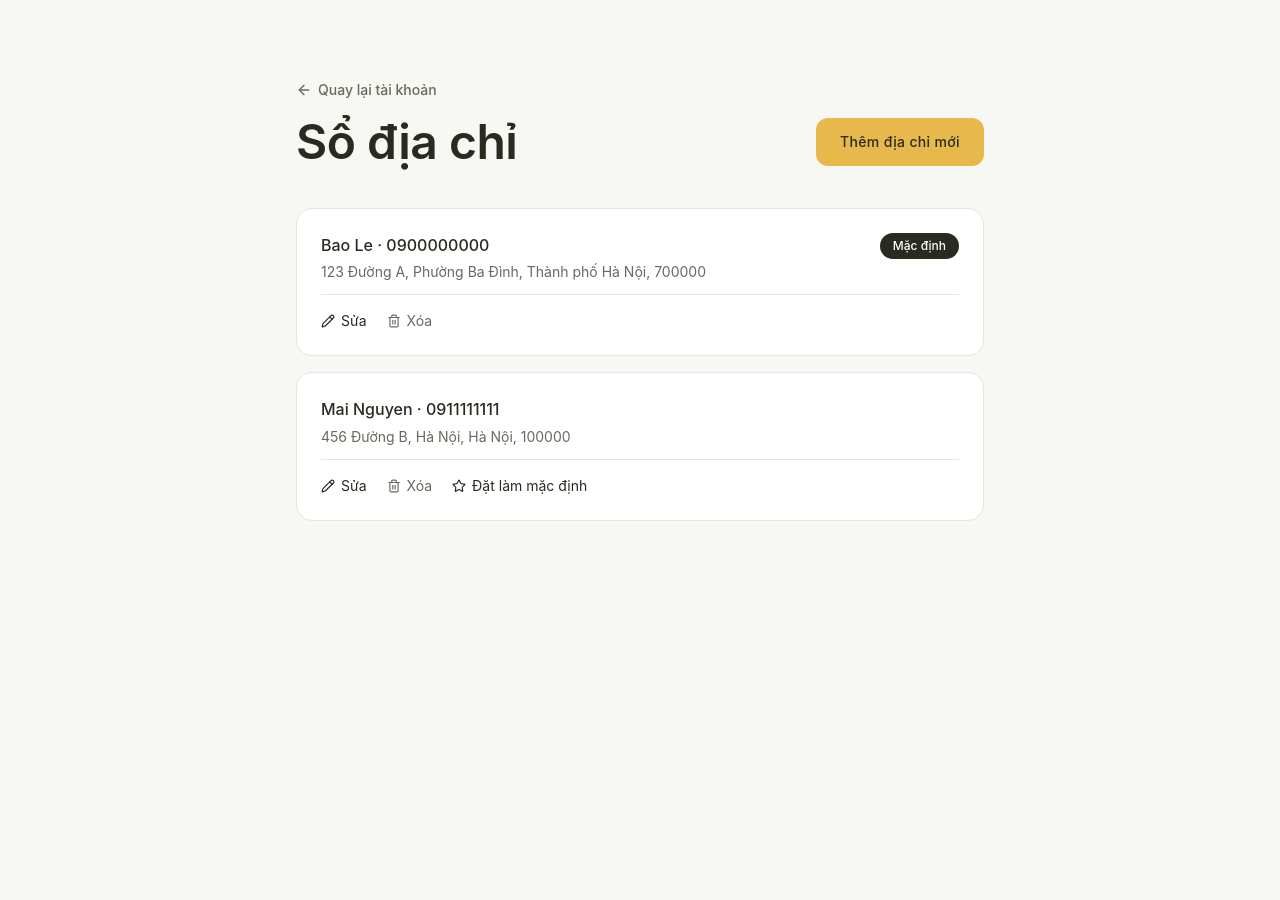
Test: AddressesPage › searches without accents and selects an administrative unit with the keyboard
Expected: the text "Bao Le · 0900000000" is shown, [321, 235, 489, 255]
Step 1. Click the button "Thêm địa chỉ mới" → point(900, 142), box [816, 118, 984, 166]
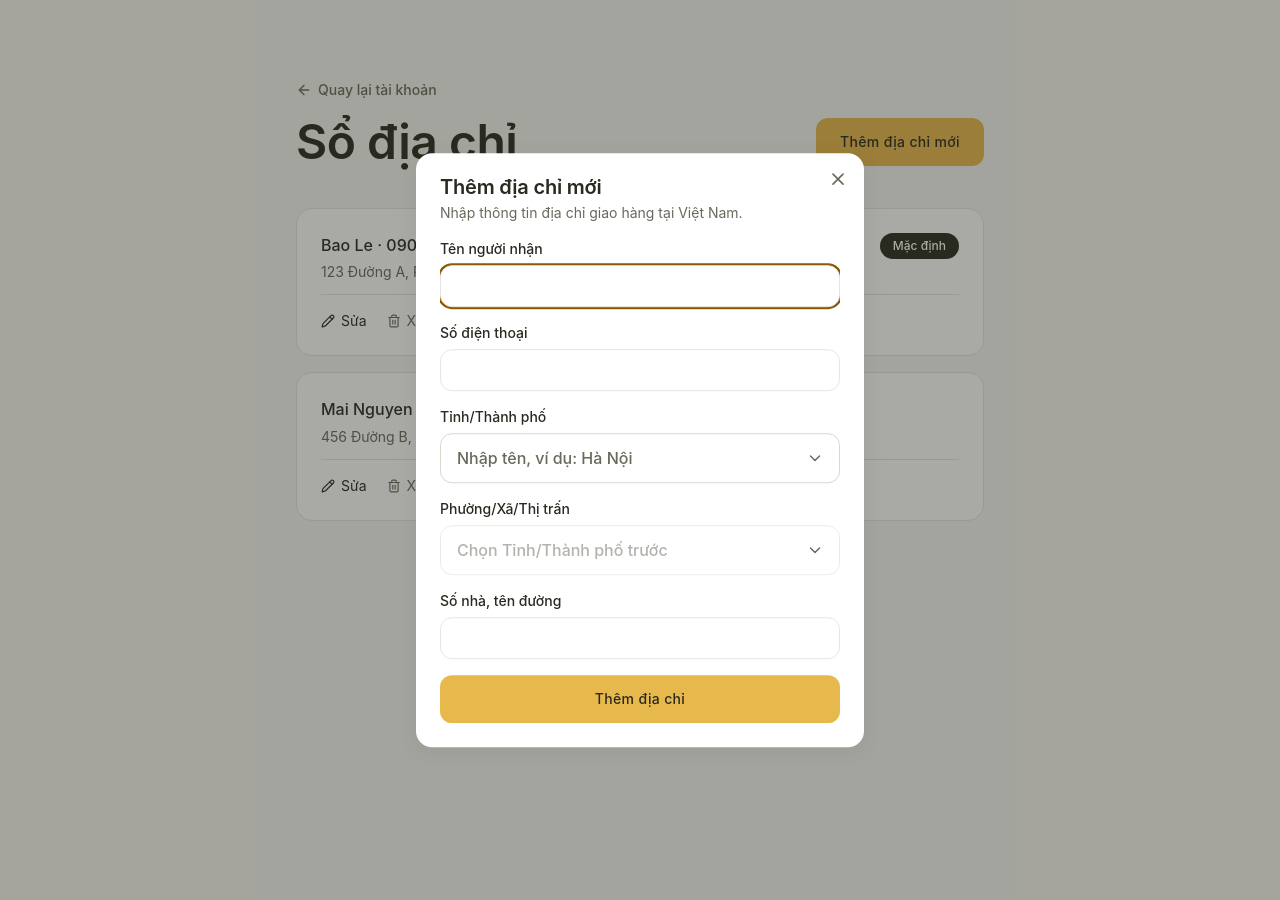
Step 2. Type "ha noi" into the dropdown labelled "Tỉnh/Thành phố" → point(640, 458), box [440, 433, 840, 483]
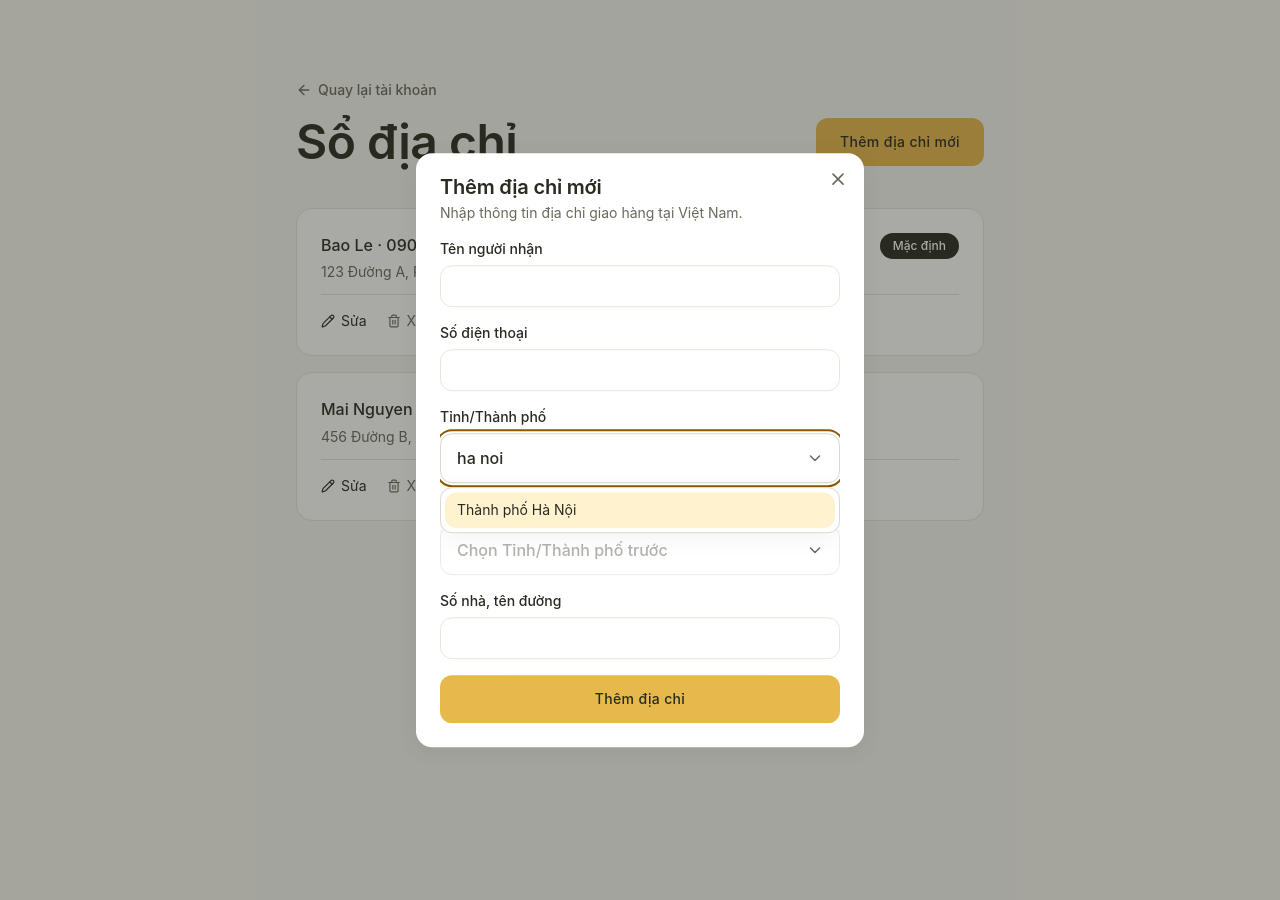
Expected: the option "Thành phố Hà Nội" is shown, [445, 492, 835, 528]
Step 3. Press Enter
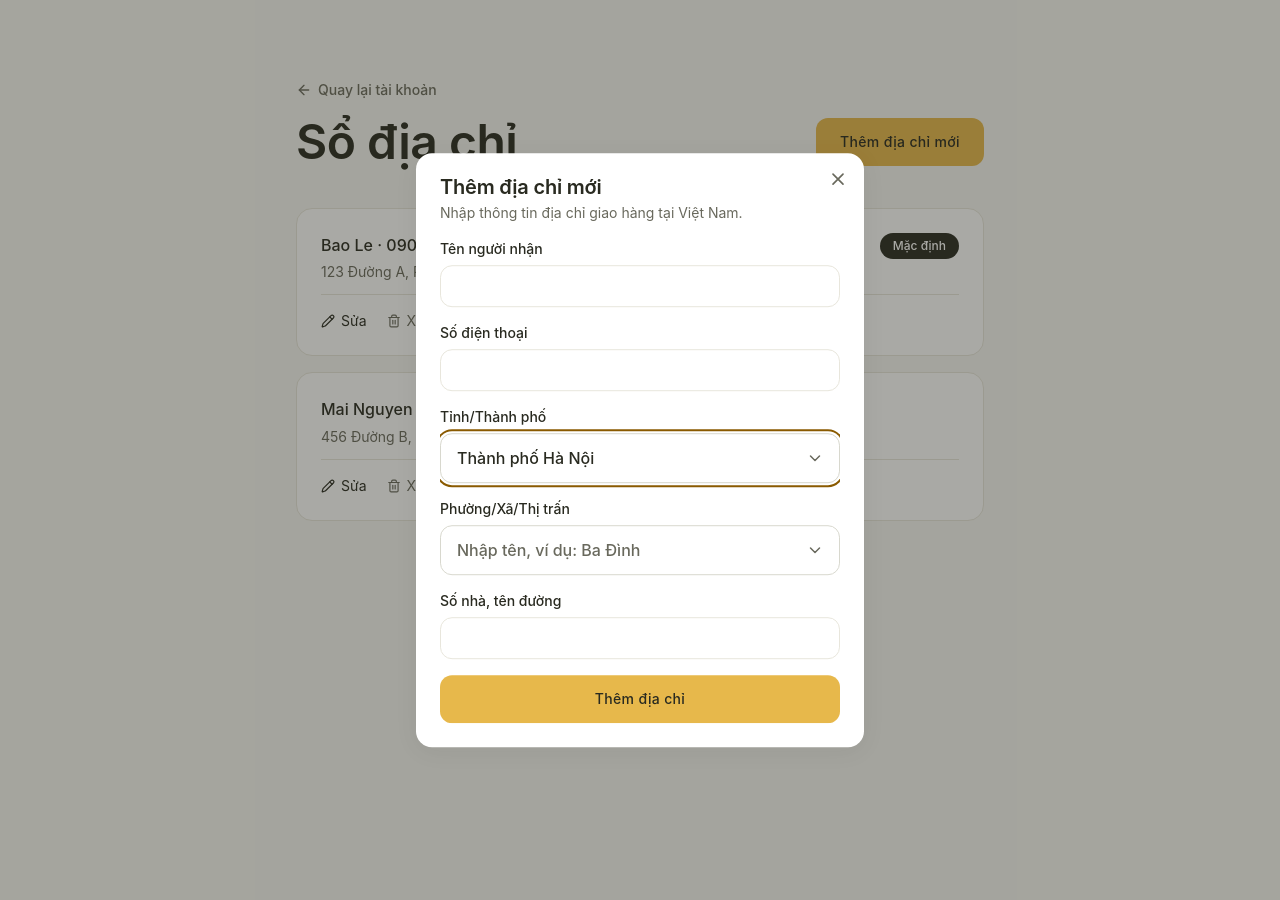
Expected: the dropdown labelled "Tỉnh/Thành phố" holds "Thành phố Hà Nội", [440, 433, 840, 483]
Expected: the dropdown labelled "Phường/Xã/Thị trấn" is enabled
Step 4. Type "p" into the dropdown labelled "Phường/Xã/Thị trấn" → point(640, 550), box [440, 525, 840, 575]
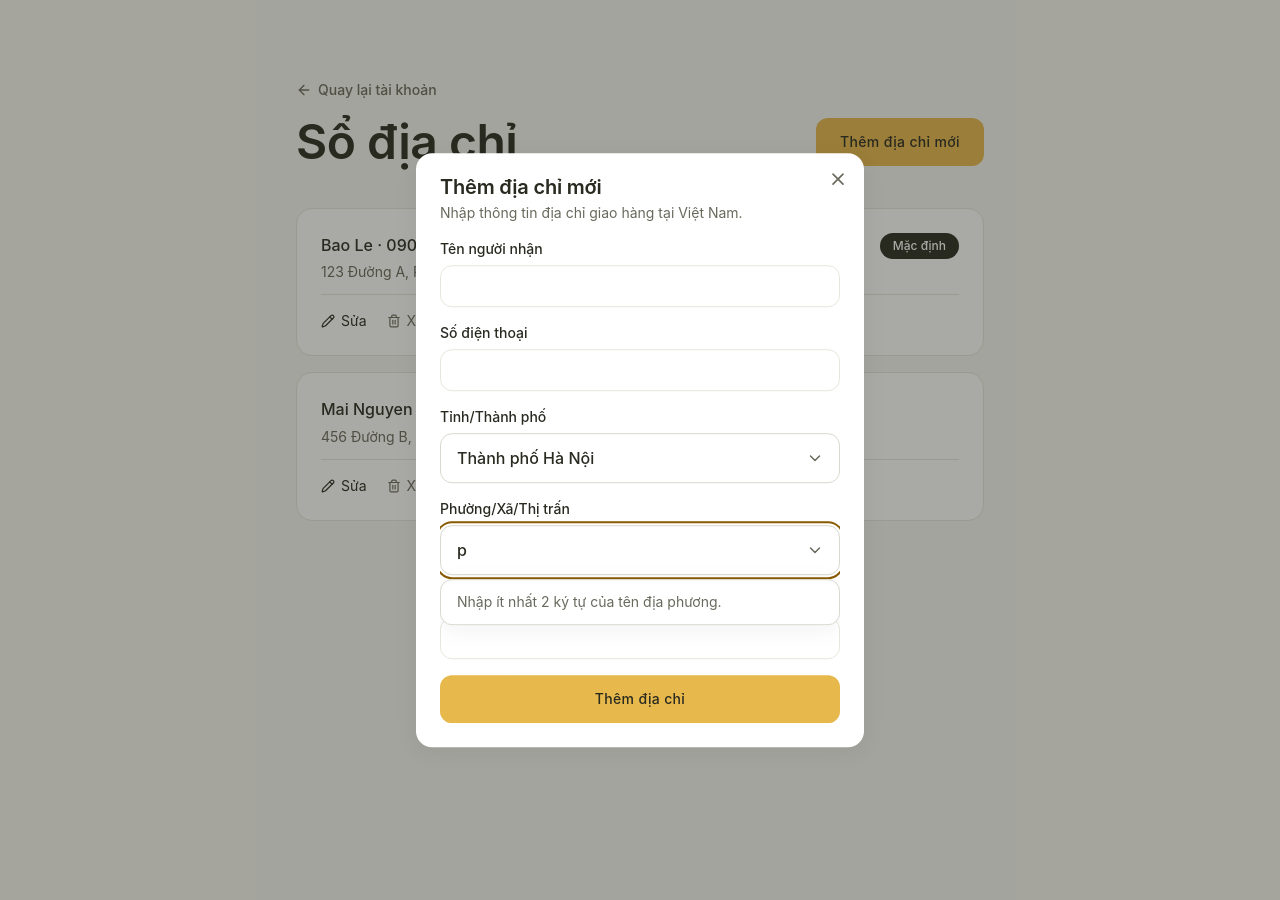
Expected: the text "Nhập ít nhất 2 ký tự của tên địa phương." is shown, [457, 593, 722, 610]
Step 5. Replace the text in the dropdown labelled "Phường/Xã/Thị trấn" with "ba dinh" → point(640, 550), box [440, 525, 840, 575]
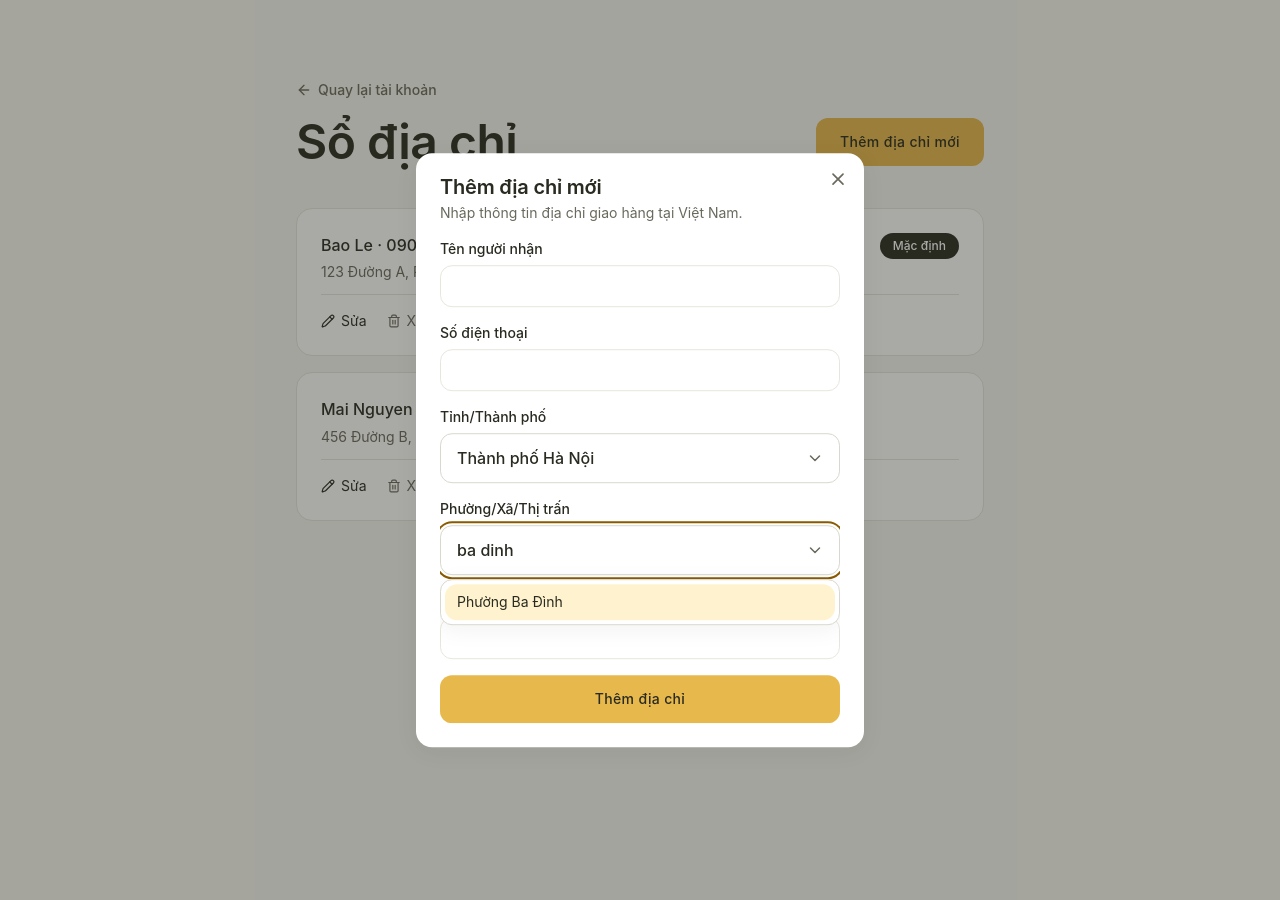
Expected: the option "Phường Ba Đình" is shown, [445, 584, 835, 620]
